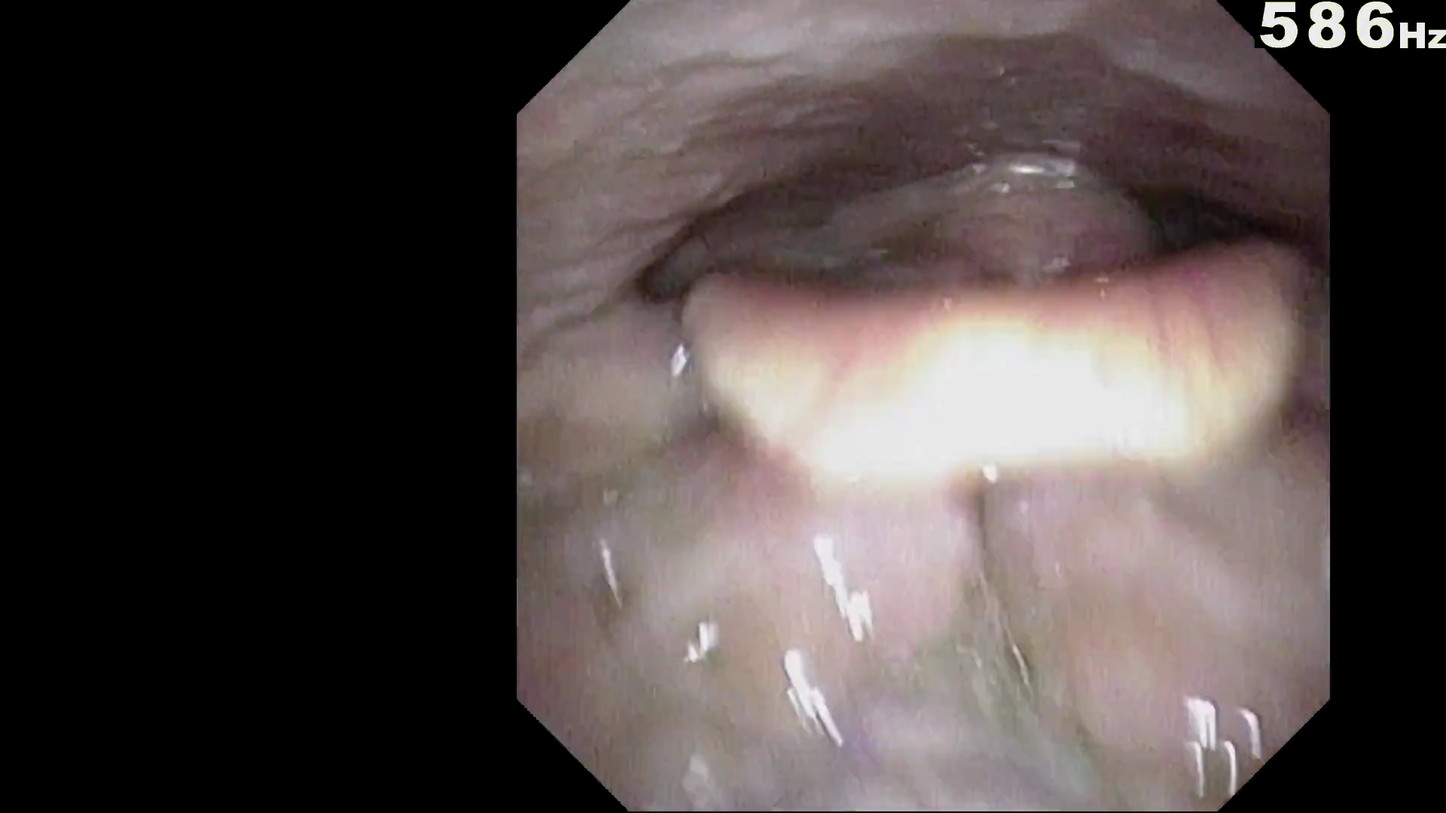epiglottis: (744, 472, 1280, 671)
trachea: (971, 360, 1067, 490)
